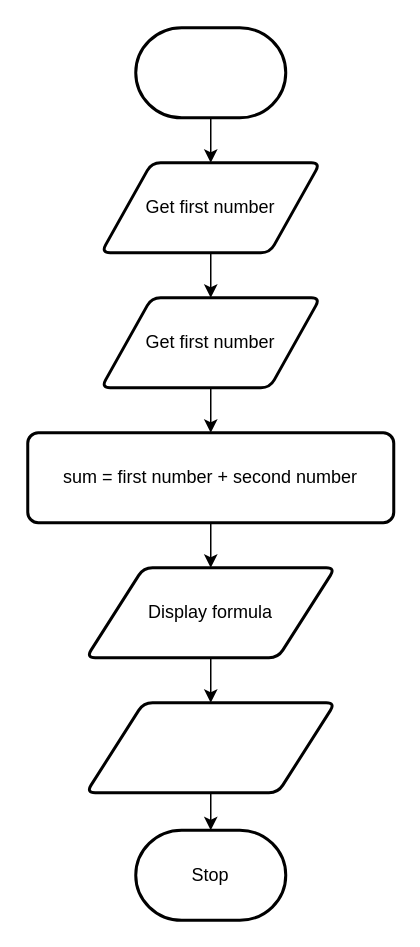
Some shapes in this 420 by 947 pixel diagram are drawn without their labels. Here are the shapes that lost their labels. From the top down, the centre of each, then its label:
the point at 210,72: Start
the point at 210,747: Display sum
